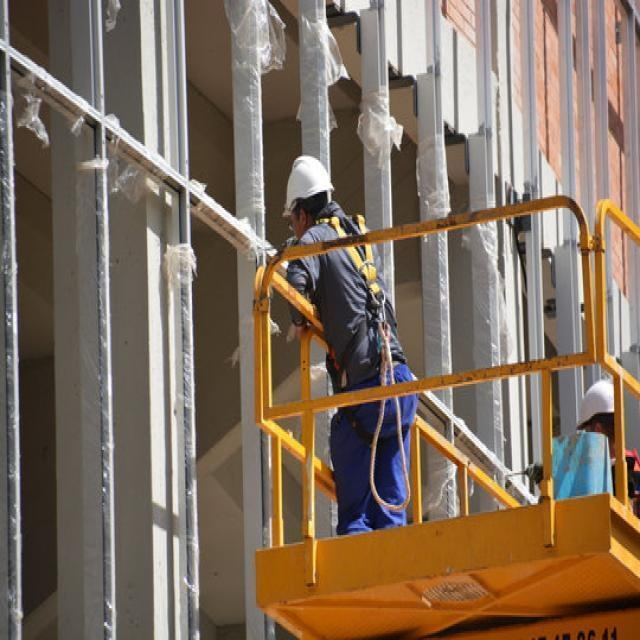Arnes_seguridad: (316, 213, 385, 308)
